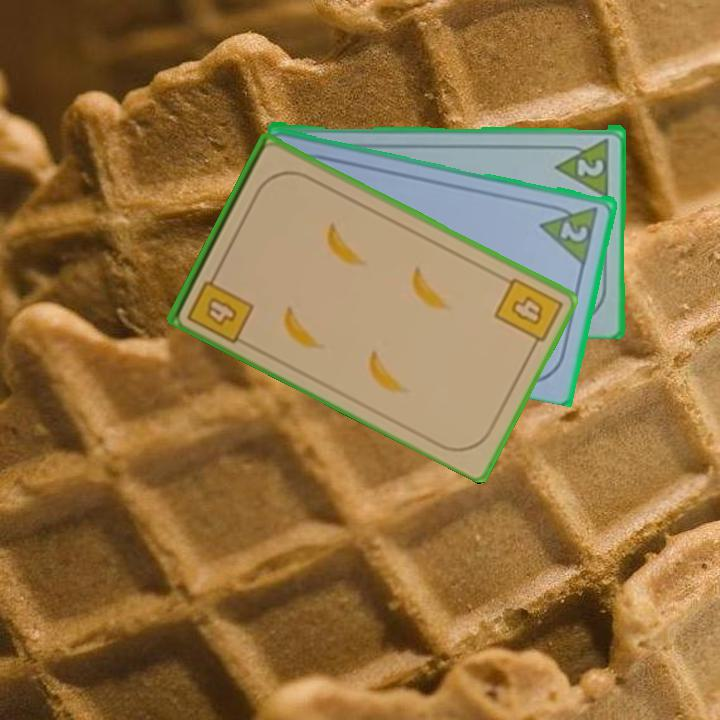2p: (537, 199, 602, 266), (574, 153, 607, 179)
4b: (183, 265, 257, 346), (491, 273, 564, 353)
